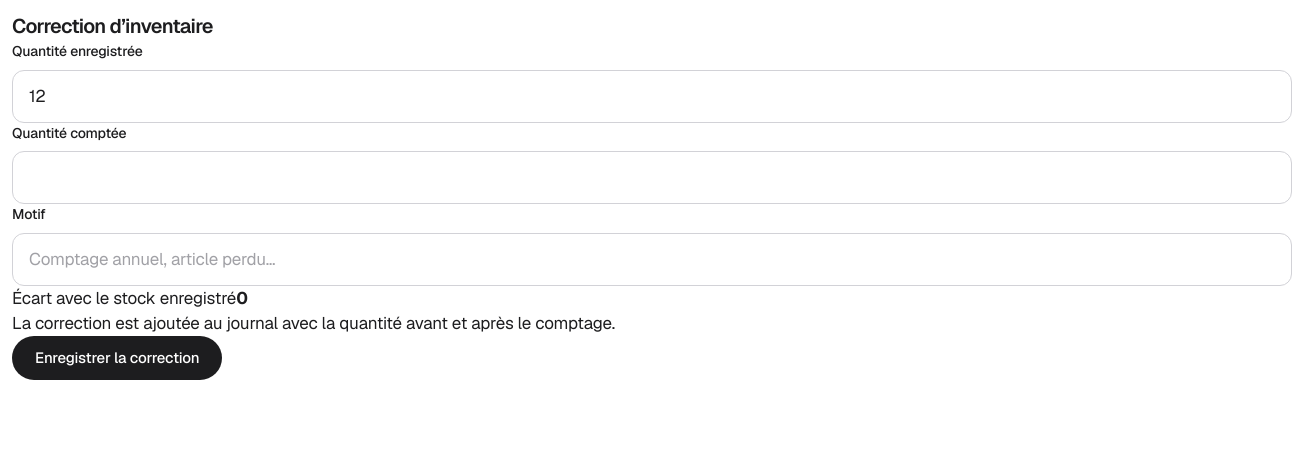
Test: FormulaireInventaire › recharge le stock et demande de recommencer quand il a changé
Type "11" into the number field labelled "Quantité comptée".
click(652, 178); type("11")  # box [12, 151, 1292, 204]
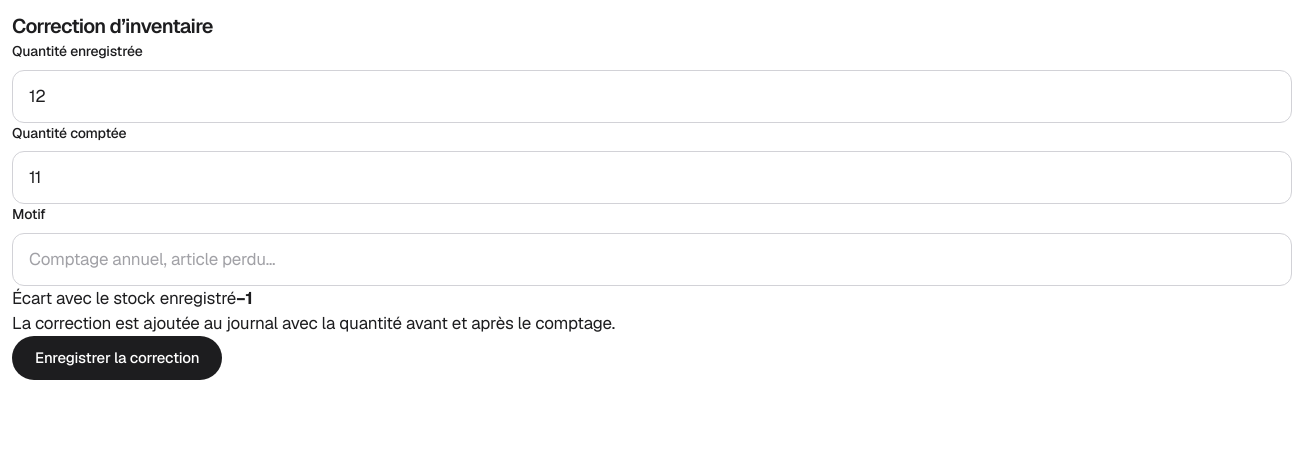
Type "Comptage" into the field labelled "Motif".
click(652, 259); type("Comptage")  # box [12, 233, 1292, 286]
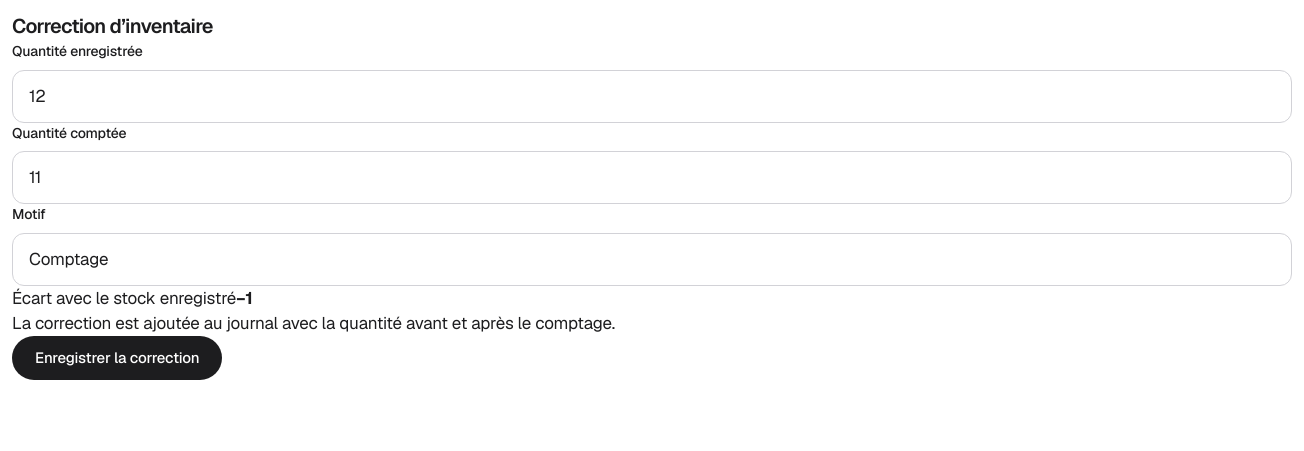
Click the button "Enregistrer la correction".
click(117, 358)  # box [12, 336, 222, 380]
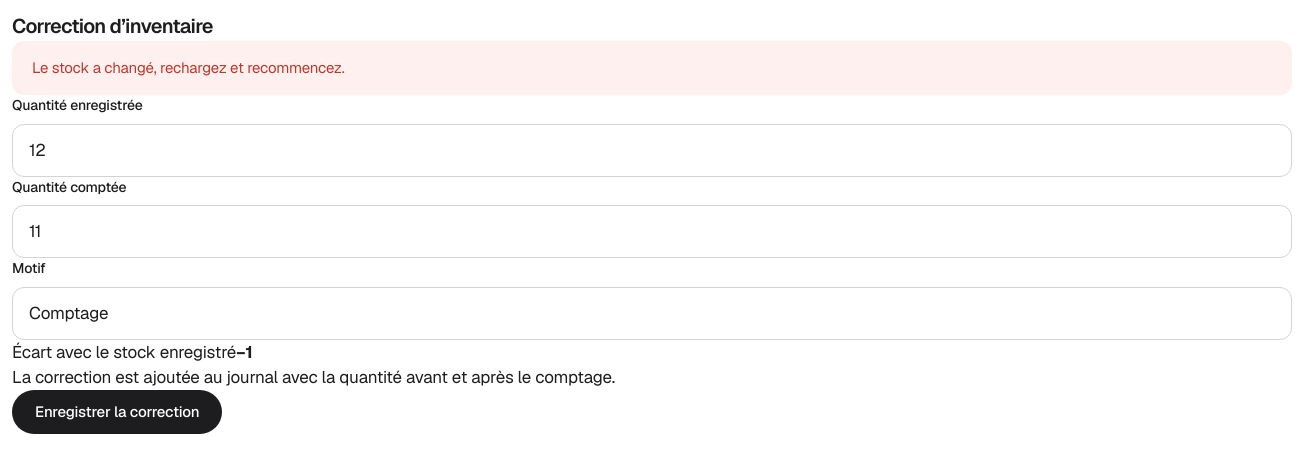
expect the message reads "Le stock a changé, rechargez et recommencez.": met, box [32, 58, 344, 77]
